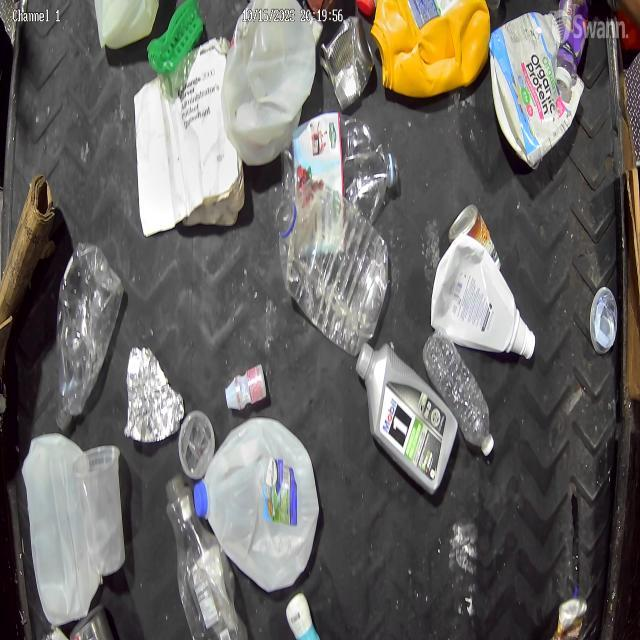can: (124, 344, 184, 449), (320, 13, 374, 108), (447, 202, 503, 282), (586, 278, 620, 362)
milk_jug: (196, 414, 310, 590), (225, 0, 325, 177), (25, 426, 83, 618), (92, 0, 167, 65)
non_white_jug: (358, 332, 444, 493), (370, 0, 493, 104)
plastic_bottle: (276, 182, 376, 350), (290, 112, 399, 235), (422, 329, 491, 456)
